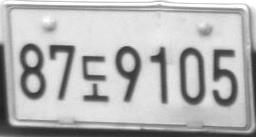0: (178, 46, 205, 105)
1: (147, 46, 174, 103)
5: (212, 47, 238, 107)
7: (48, 43, 76, 100)
8: (18, 42, 47, 99)
9: (114, 45, 141, 102)
도: (81, 54, 108, 102)
